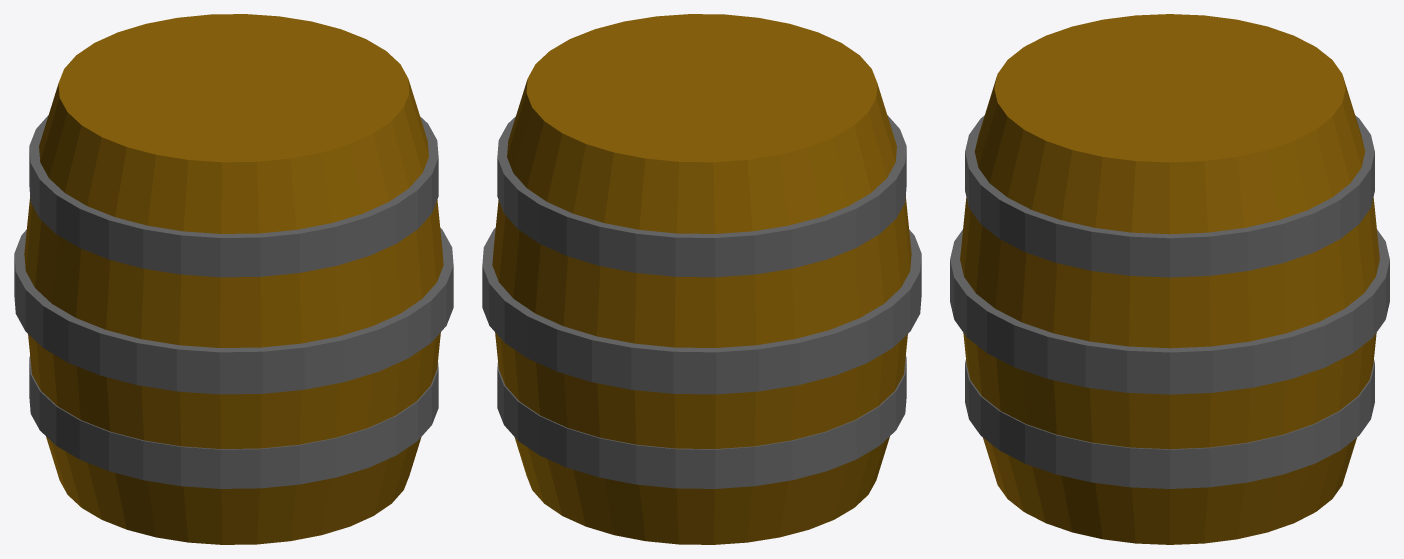
The model's file is barrel.glb.
3 views of the same model, side by side, from view 1: azimuth 30°, elevation 25°; view 2: azimuth 150°, elevation 25°; view 3: azimuth 270°, elevation 25° (orthographic).
Visible parts, largest first — view 1: Cylinder, Cylinder.001, Cylinder.002, Cylinder.003; view 2: Cylinder, Cylinder.001, Cylinder.002, Cylinder.003; view 3: Cylinder, Cylinder.001, Cylinder.002, Cylinder.003.
Boxes of the visible parts, <box> form: Cylinder: <box>24,14,443,544</box>; Cylinder.001: <box>14,228,453,394</box>; Cylinder.002: <box>29,115,438,277</box>; Cylinder.003: <box>29,356,438,488</box>; Cylinder: <box>492,14,911,544</box>; Cylinder.001: <box>482,228,921,394</box>; Cylinder.002: <box>497,115,906,277</box>; Cylinder.003: <box>497,356,906,488</box>; Cylinder: <box>960,14,1379,544</box>; Cylinder.001: <box>950,229,1389,394</box>; Cylinder.002: <box>965,115,1374,277</box>; Cylinder.003: <box>965,360,1374,488</box>.
Size of the model in its own units: 5.1 by 4.89 by 5.1.
